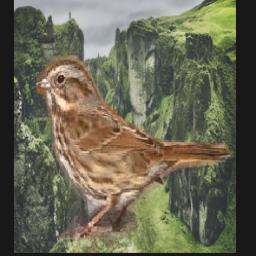Sparrow: (36, 52, 233, 241)
